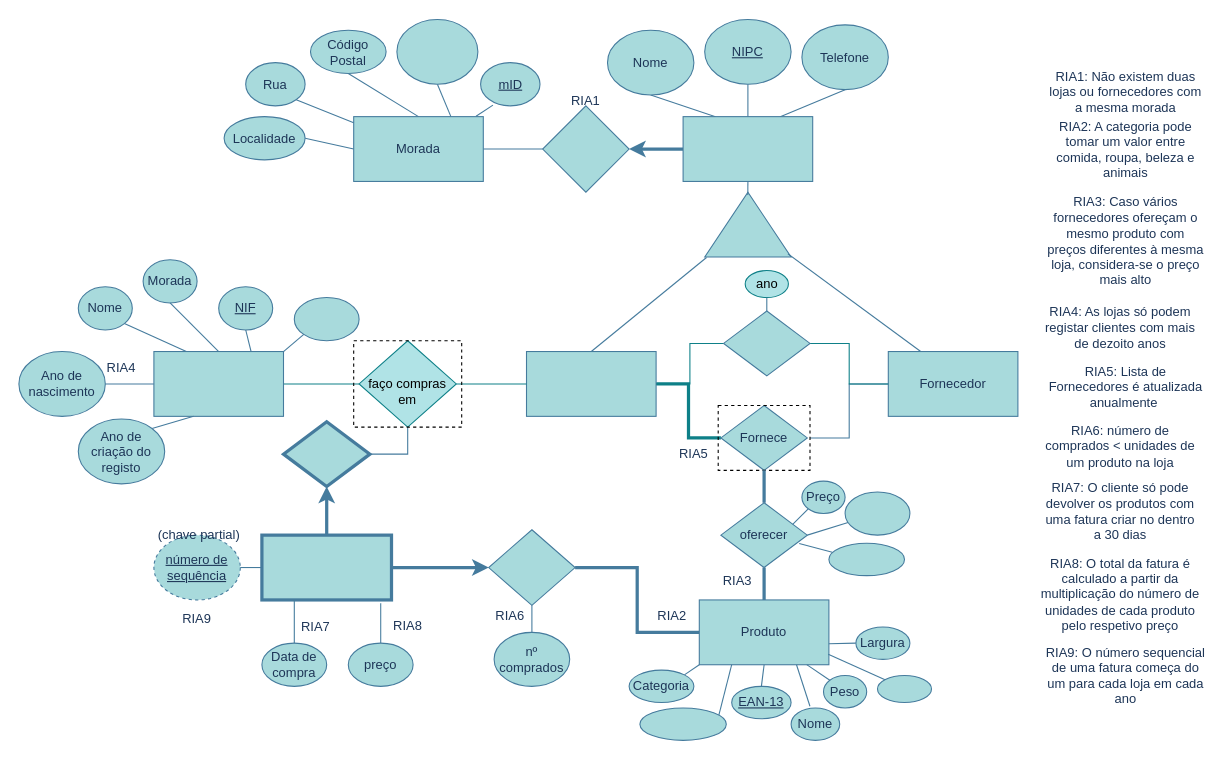
The diagram is 1226 pixels wide and 759 high, and some of its shapes have lost their labels. Each missing label, with the centre of its shape:
Altura: the point at 904,688
Cliente: the point at 218,383
comprar: the point at 531,567
Dia de semana: the point at 877,513
emite: the point at 326,454
Establishment (Empresa?): the point at 747,148
fatura: the point at 326,567
fica localizada na: the point at 585,148
género: the point at 326,318
ISA: the point at 747,224
já forneceu: the point at 766,343
Loja: the point at 590,383
Número de Porta: the point at 437,51
Profundidade: the point at 682,723
Quantidade: the point at 866,559
